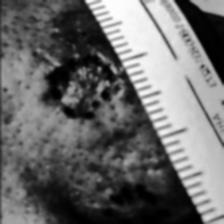Potentially Malignant Skin Tumors: (58, 65, 100, 106), (122, 201, 148, 221)
